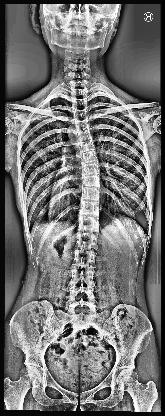Vertebrae: (68, 251, 98, 267), (68, 269, 95, 285), (73, 232, 99, 248), (77, 216, 101, 232), (66, 288, 97, 300), (77, 201, 101, 215), (80, 188, 102, 200), (80, 176, 102, 186), (80, 164, 102, 174), (78, 152, 98, 162), (78, 141, 96, 150), (72, 110, 90, 119), (76, 132, 94, 140), (73, 99, 89, 108), (70, 89, 88, 97), (74, 121, 90, 129)
